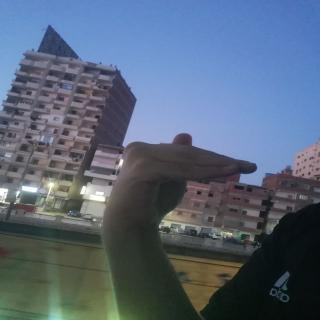KHAA: (94, 122, 259, 246)
